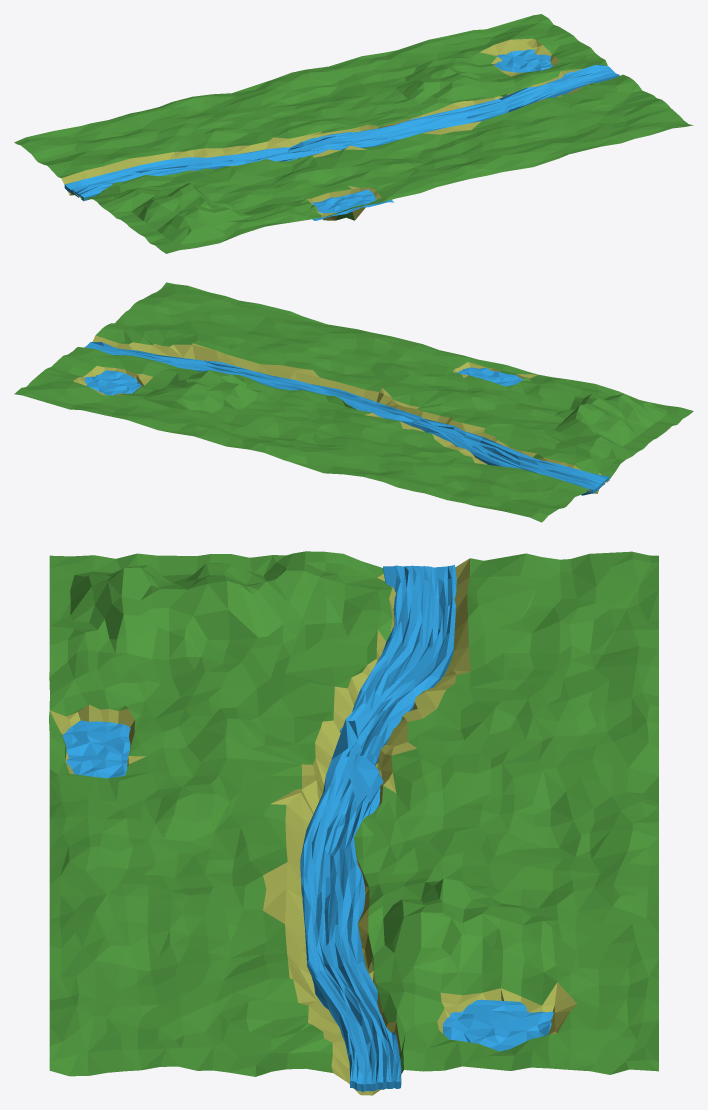
File: map_ecoworldv2.fbx
3 renders of one model, top to bottom at view 1: azimuth 30°, elevation 25°; view 2: azimuth 150°, elevation 25°; view 3: azimuth 270°, elevation 25°, orthographic. The views are drawn at different scales.
Visible parts, largest first — view 1: plaine, riviere, lac2, lac1; view 2: plaine, riviere, lac1, lac2; view 3: plaine, riviere, lac1, lac2.
Part boxes in pixels (x1,y1,x2,y2): plaine: [14, 14, 693, 253]; riviere: [64, 65, 619, 200]; lac2: [312, 189, 393, 220]; lac1: [494, 49, 553, 72]; plaine: [14, 282, 693, 522]; riviere: [84, 342, 609, 495]; lac1: [84, 370, 141, 395]; lac2: [456, 367, 522, 386]; plaine: [49, 551, 658, 1095]; riviere: [300, 564, 456, 1092]; lac1: [442, 999, 553, 1051]; lac2: [62, 720, 130, 778].
Size of the model in its own units: 629 by 59.94 by 313.
